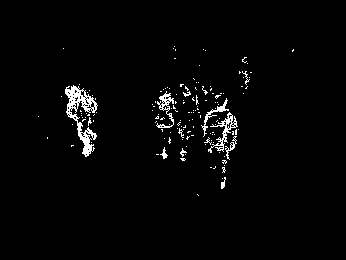person: (206, 93, 238, 190), (63, 83, 100, 160), (175, 81, 198, 162), (195, 78, 221, 143), (154, 82, 174, 165)
